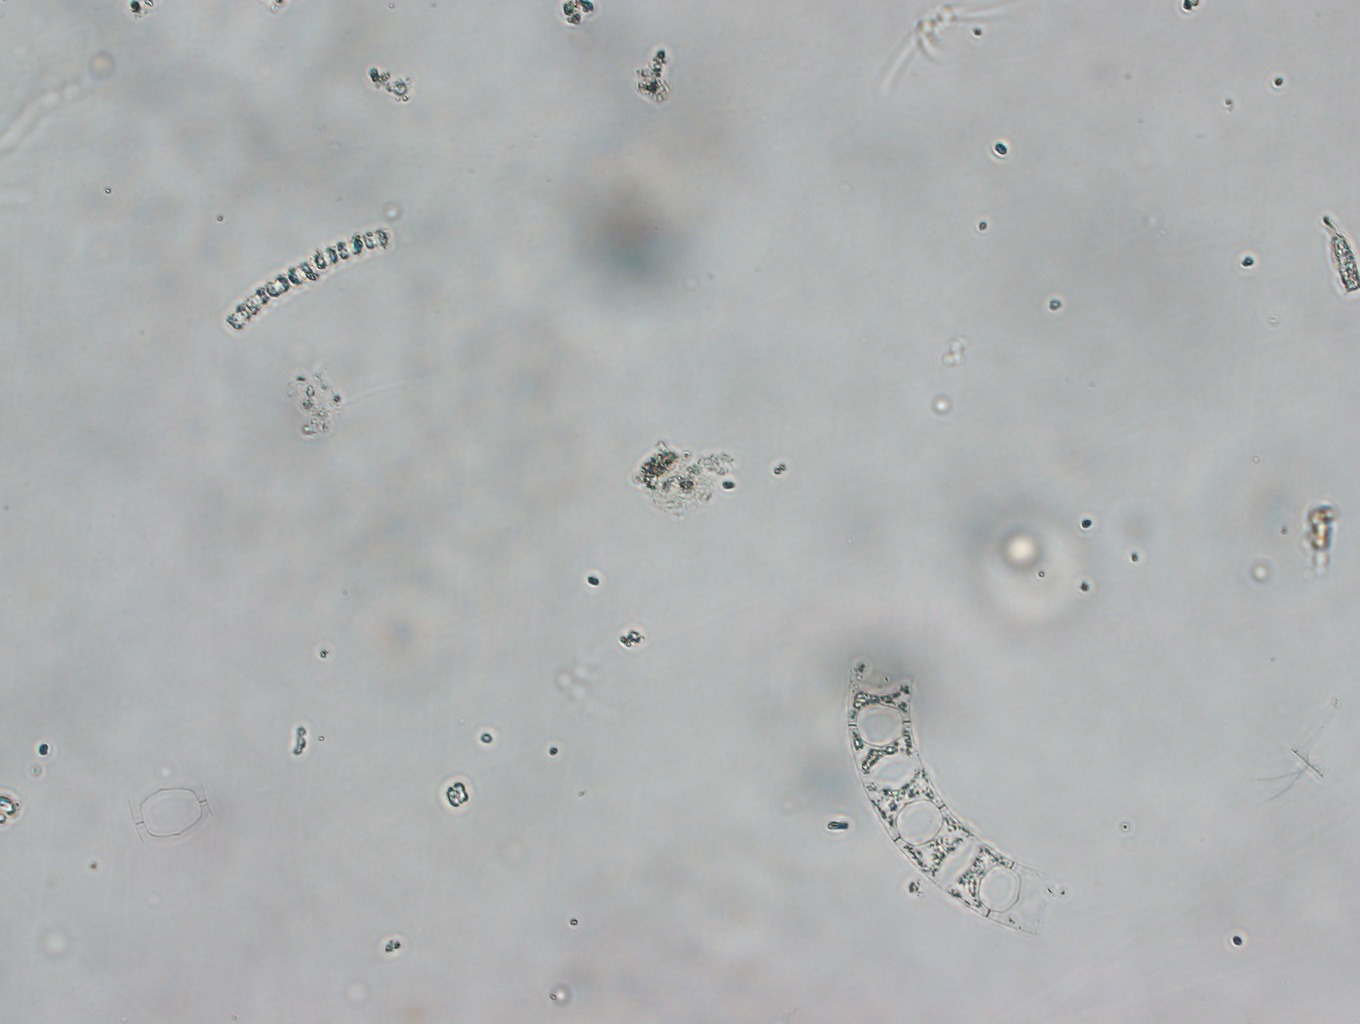eucampia: (834, 652, 1060, 934)
